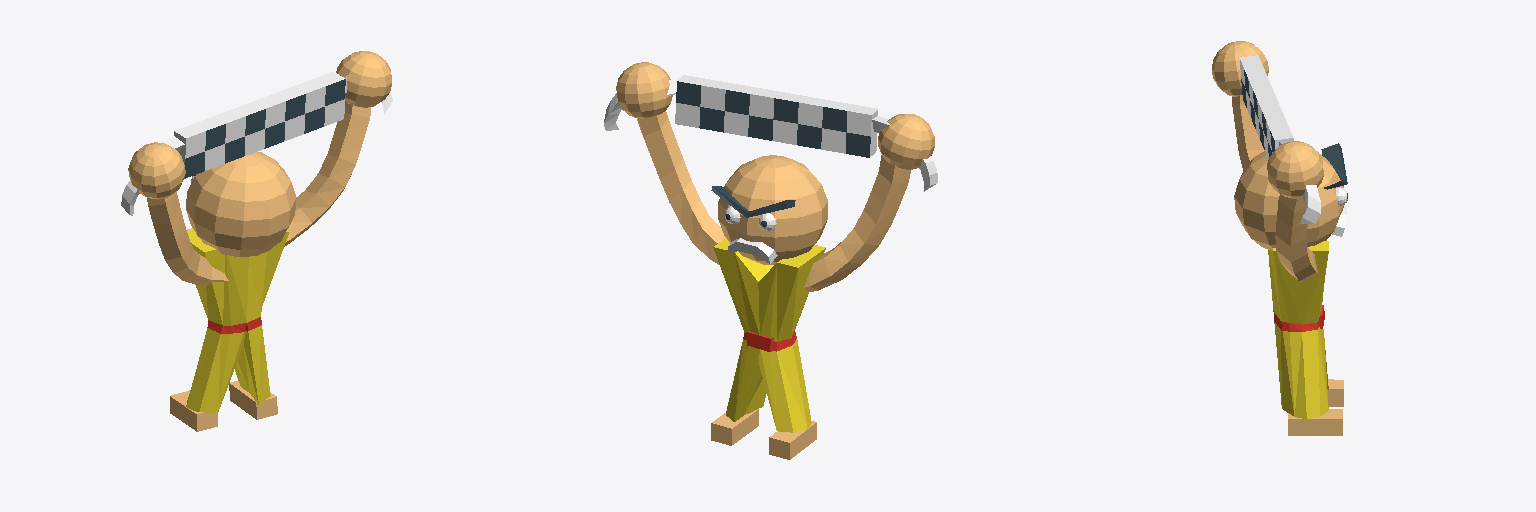
The picture shows the model from 3 angles: view 1: azimuth 30°, elevation 25°; view 2: azimuth 150°, elevation 25°; view 3: azimuth 270°, elevation 25°; orthographic projection.
Parts seen in each view (by area): view 1: group[number redacted], group[number redacted], group[number redacted], group[number redacted], group[number redacted], group[number redacted], group[number redacted], group[number redacted], group[number redacted], group[number redacted]; view 2: group[number redacted], group[number redacted], group[number redacted], group[number redacted], group[number redacted], group[number redacted], group[number redacted], group[number redacted], group[number redacted], group[number redacted], group[number redacted], group[number redacted] (+1 smaller); view 3: group[number redacted], group[number redacted], group[number redacted], group[number redacted], group[number redacted], group[number redacted], group[number redacted], group[number redacted], group[number redacted], group[number redacted].
Part boxes in pixels (x1,y1,x2,y2): group[number redacted]: (186,228,289,412); group[number redacted]: (186,152,296,257); group[number redacted]: (174,71,345,178); group[number redacted]: (284,101,370,246); group[number redacted]: (147,191,228,285); group[number redacted]: (128,142,185,199); group[number redacted]: (336,51,391,107); group[number redacted]: (170,390,217,431); group[number redacted]: (229,381,277,419); group[number redacted]: (121,136,184,215); group[number redacted]: (713,238,825,432); group[number redacted]: (675,75,877,157); group[number redacted]: (718,155,827,264); group[number redacted]: (804,155,910,291); group[number redacted]: (637,111,725,264); group[number redacted]: (616,62,672,118); group[number redacted]: (878,114,934,169); group[number redacted]: (711,409,758,445); group[number redacted]: (769,421,816,459); group[number redacted]: (711,186,795,217); group[number redacted]: (728,238,777,263); group[number redacted]: (872,116,937,191); group[number redacted]: (1268,240,1328,418); group[number redacted]: (1234,151,1344,250); group[number redacted]: (1240,55,1293,159); group[number redacted]: (1267,141,1323,198); group[number redacted]: (1275,194,1317,282); group[number redacted]: (1212,41,1268,96); group[number redacted]: (1232,95,1264,170); group[number redacted]: (1288,409,1342,435); group[number redacted]: (1279,142,1320,223); group[number redacted]: (1321,143,1347,189).
Bounding box in the file's own units: 1.42 × 1.54 × 0.5686.